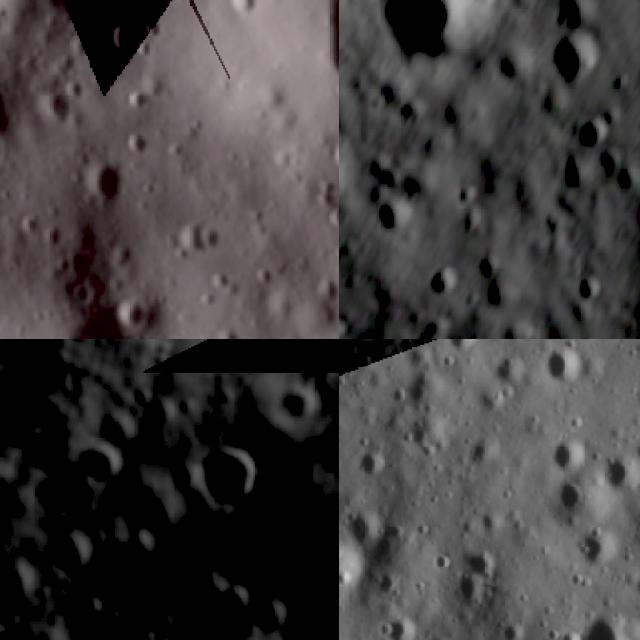crater: (371, 0, 514, 58), (182, 439, 258, 513), (114, 487, 184, 554), (448, 545, 516, 613), (255, 383, 331, 432), (549, 32, 610, 92), (81, 153, 138, 213), (38, 522, 89, 581), (68, 440, 124, 490), (98, 292, 155, 339), (106, 8, 153, 64), (359, 602, 426, 640), (233, 599, 287, 640), (541, 434, 586, 482), (371, 197, 418, 241), (570, 529, 620, 570), (542, 345, 588, 389), (572, 612, 634, 640), (0, 117, 24, 185), (490, 359, 530, 399), (555, 0, 596, 38), (353, 446, 390, 487), (575, 113, 615, 150), (344, 511, 384, 548), (0, 563, 33, 606), (339, 543, 366, 592), (602, 453, 636, 491), (430, 265, 460, 300), (456, 178, 485, 212), (575, 276, 607, 304), (475, 252, 504, 280), (438, 339, 481, 353), (370, 339, 404, 349), (339, 314, 352, 339), (632, 481, 640, 510)
